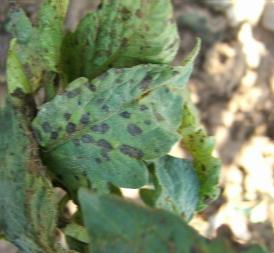Tomato leaf bacterial spot: (16, 39, 203, 175), (40, 0, 184, 113), (0, 90, 77, 253)
